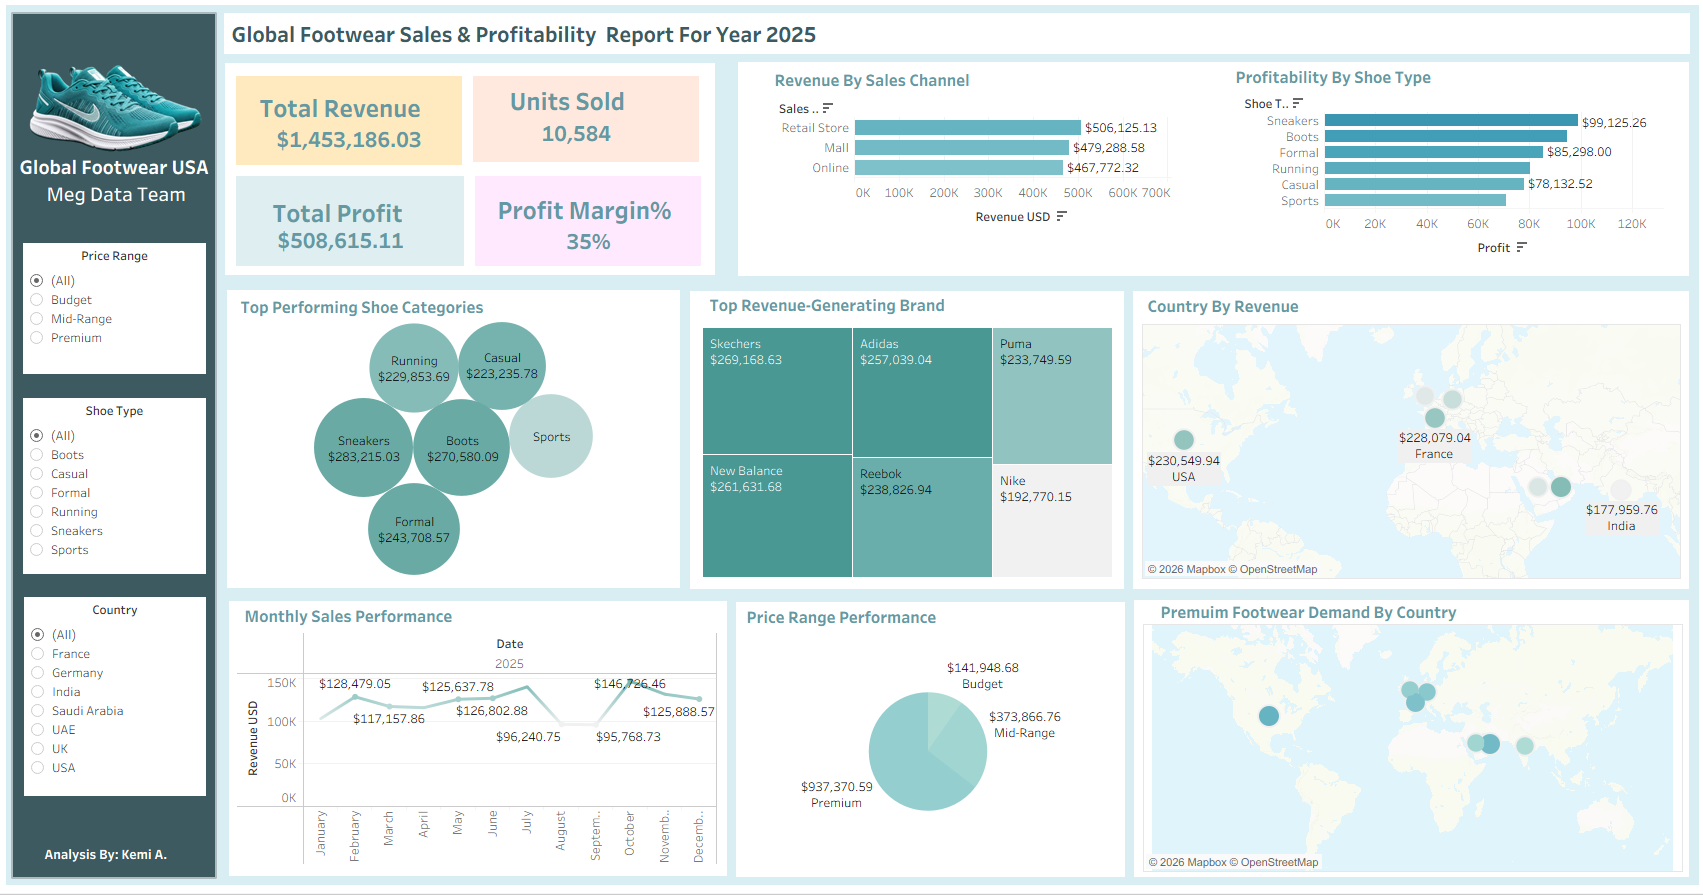

This screenshot's page, from the dashboard's own definition file:
{"tool":"tableau","page":{"name":"Dashboard 1","canvas":[1000,1000],"units":"permille","ordinal":0},"visuals":[{"type":"blank","box":[132.2,17.9,857.8,45.8]},{"type":"blank","box":[8.8,19,118.2,963.2]},{"type":"text","box":[135.2,24.6,488.6,33.5]},{"type":"image","param":"Image/gggggggggg.png","box":[13.5,46.9,110.6,158.5]},{"type":"blank","box":[433,72.5,556.5,238.8]},{"type":"blank","box":[132.8,73.7,286.7,236.6]},{"type":"text","box":[452.9,75.9,117.6,33.5]},{"type":"text","box":[722.6,77,117.6,23.4]},{"type":"blank","box":[139.3,88.2,132.2,99.3]},{"type":"blank","box":[277.9,88.2,132.2,96]},{"type":"text","box":[297.8,97.1,79.6,36.8]},{"type":"text","box":[151.6,106,102.4,33.5]},{"type":"worksheet","title":"Profitability By Shoes Type","mark":"Automatic","rows":["Shoe_Type"],"cols":["Profit"],"box":[729.1,106,245.8,190.8]},{"type":"worksheet","title":"Revenue By Sales Channel","mark":"Automatic","rows":["Sales_Channel"],"cols":["Revenue_USD"],"box":[454.1,111.6,232.9,185.3]},{"type":"text","box":[316.6,135,49.7,33.5]},{"type":"text","box":[161.5,141.7,87.2,33.5]},{"type":"text","box":[11.1,171.9,112.9,33.5]},{"type":"blank","box":[139.3,199.8,133.4,100.5]},{"type":"blank","box":[279.1,199.8,132.2,100.5]},{"type":"text","box":[26.9,202,84.3,33.5]},{"type":"text","box":[290.8,219.9,110,33.5]},{"type":"text","box":[159.2,221,97.1,38]},{"type":"text","box":[162.1,254.5,74.9,33.5]},{"type":"text","box":[331.2,254.5,27.5,35.7]},{"type":"filter","title":"Price Range Performance","param":"[federated.0ejd7eu1a3qka91cvc1xn0oh35os].[none:Price_Range:nk]","box":[14.6,274.6,107.1,146.2]},{"type":"blank","box":[134,327,265.1,332.6]},{"type":"text","box":[414.9,327,143.4,33.5]},{"type":"blank","box":[404.9,328.1,254,332.6]},{"type":"blank","box":[664.1,328.1,325.3,332.6]},{"type":"text","box":[671.1,330.4,91.9,29]},{"type":"text","box":[140.4,333.7,145.7,23.4]},{"type":"worksheet","title":"Top Performing Shoe Categories","mark":"Circle","box":[139.8,361.6,253.4,283.5]},{"type":"worksheet","title":"Top Revenue-Generating Brands","mark":"Automatic","box":[409.6,363.8,244.6,289.1]},{"type":"worksheet","title":"Country By Revenue","mark":"Automatic","box":[669.4,365,315.4,284.6]},{"type":"filter","title":"Profitability By Shoes Type","param":"[federated.0ejd7eu1a3qka91cvc1xn0oh35os].[none:Shoe_Type:nk]","box":[14.6,447.5,107.1,196.4]},{"type":"filter","title":"Country By Revenue","param":"[federated.0ejd7eu1a3qka91cvc1xn0oh35os].[none:Country:nk]","box":[15.2,669.6,106.5,222.1]},{"type":"text","box":[678.8,671.9,176.7,27.9]},{"type":"blank","box":[664.7,673,324.8,309.2]},{"type":"blank","box":[135.2,674.1,291.4,306.9]},{"type":"blank","box":[431.8,675.2,227.6,306.9]},{"type":"text","box":[142.8,676.3,159.7,29]},{"type":"text","box":[436.5,678.6,114.1,25.7]},{"type":"worksheet","title":"Premium Footwear Demand by Coun","mark":"Automatic","box":[670,699.8,316,276.8]},{"type":"worksheet","title":"Monthly Sales Performance","mark":"Automatic","rows":["Revenue_USD"],"cols":["Date","Date"],"box":[139.8,709.8,280.9,258.9]},{"type":"worksheet","title":"Price Range Performance","mark":"Pie","box":[434.8,709.8,218.8,264.5]},{"type":"text","box":[25.8,939.7,74.9,33.5]}]}

Visuals, with their boxes on the dashboard's canvas, which has no fixed pixel size, in thousandths of its width and height (x1, y1, x2, y2). These are canvas units, not pixel positions in the 1703x895 screenshot, which may show the page scaled, cropped or inside an application window:
blank: 132:18:990:64
blank: 9:19:127:982
text: 135:25:624:58
image: 14:47:124:205
blank: 433:72:990:311
blank: 133:74:420:310
text: 453:76:570:109
text: 723:77:840:100
blank: 139:88:272:188
blank: 278:88:410:184
text: 298:97:377:134
text: 152:106:254:140
"Profitability By Shoes Type" worksheet: 729:106:975:297
"Revenue By Sales Channel" worksheet: 454:112:687:297
text: 317:135:366:168
text: 162:142:249:175
text: 11:172:124:205
blank: 139:200:273:300
blank: 279:200:411:300
text: 27:202:111:236
text: 291:220:401:253
text: 159:221:256:259
text: 162:254:237:288
text: 331:254:359:290
"Price Range Performance" filter: 15:275:122:421
blank: 134:327:399:660
text: 415:327:558:360
blank: 405:328:659:661
blank: 664:328:989:661
text: 671:330:763:359
text: 140:334:286:357
"Top Performing Shoe Categories" worksheet (Circle marks): 140:362:393:645
"Top Revenue-Generating Brands" worksheet: 410:364:654:653
"Country By Revenue" worksheet: 669:365:985:650
"Profitability By Shoes Type" filter: 15:448:122:644
"Country By Revenue" filter: 15:670:122:892
text: 679:672:856:700
blank: 665:673:990:982
blank: 135:674:427:981
blank: 432:675:659:982
text: 143:676:302:705
text: 436:679:551:704
"Premium Footwear Demand by Coun" worksheet: 670:700:986:977
"Monthly Sales Performance" worksheet: 140:710:421:969
"Price Range Performance" worksheet (Pie marks): 435:710:654:974
text: 26:940:101:973
